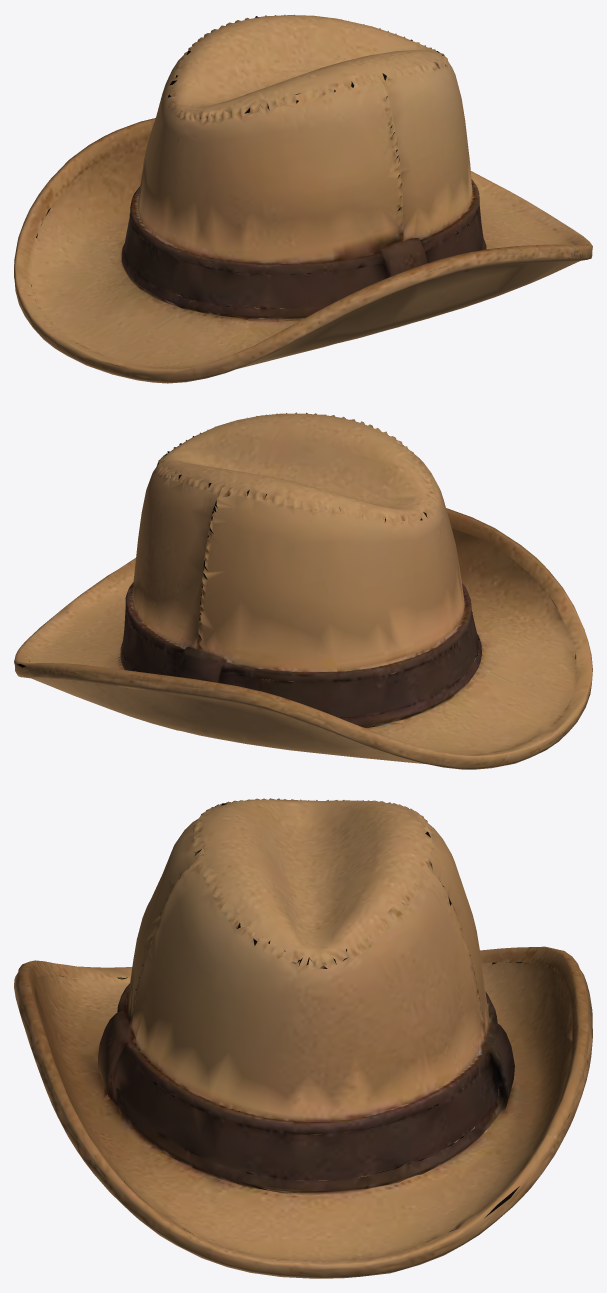
Rendered from cowboy.glb.
The picture shows the model from 3 angles, top to bottom: view 1: azimuth 30°, elevation 25°; view 2: azimuth 150°, elevation 25°; view 3: azimuth 270°, elevation 25°; orthographic projection. The views are drawn at different scales.
Visible parts, largest first — view 1: node_0; view 2: node_0; view 3: node_0.
Boxes of the visible parts, bbox=[...] form: node_0: bbox=[14, 14, 592, 383]; node_0: bbox=[14, 412, 592, 769]; node_0: bbox=[14, 798, 592, 1278].
Size of the model in its own units: 0.62 by 0.2907 by 0.5052.
1 material, 1 textured.
